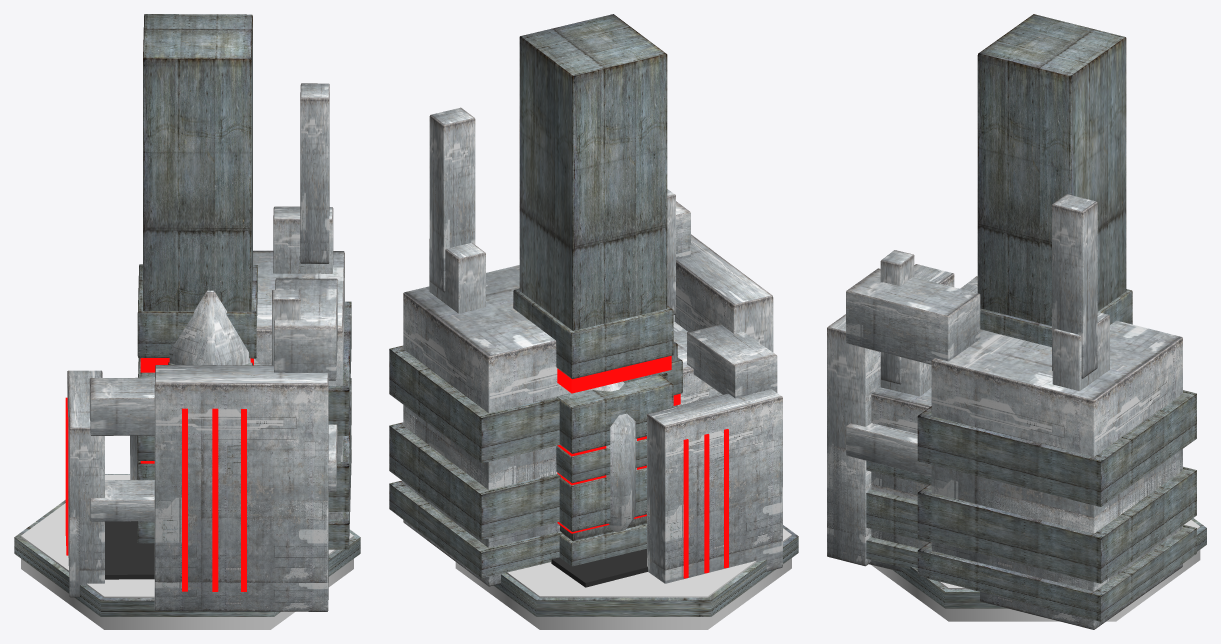
Rendered from armory03.fbx.
3 views of the same model, side by side, from view 1: azimuth 30°, elevation 25°; view 2: azimuth 150°, elevation 25°; view 3: azimuth 270°, elevation 25° (orthographic).
Parts seen in each view (by area): view 1: armoary_1; view 2: armoary_1; view 3: armoary_1.
Part boxes in pixels (x1=…): armoary_1: x1=14, y1=14, x2=360, y2=629; armoary_1: x1=389, y1=14, x2=798, y2=629; armoary_1: x1=827, y1=14, x2=1206, y2=629.
Size of the model in its own units: 492 by 729 by 478.
6 materials, 3 textured.
